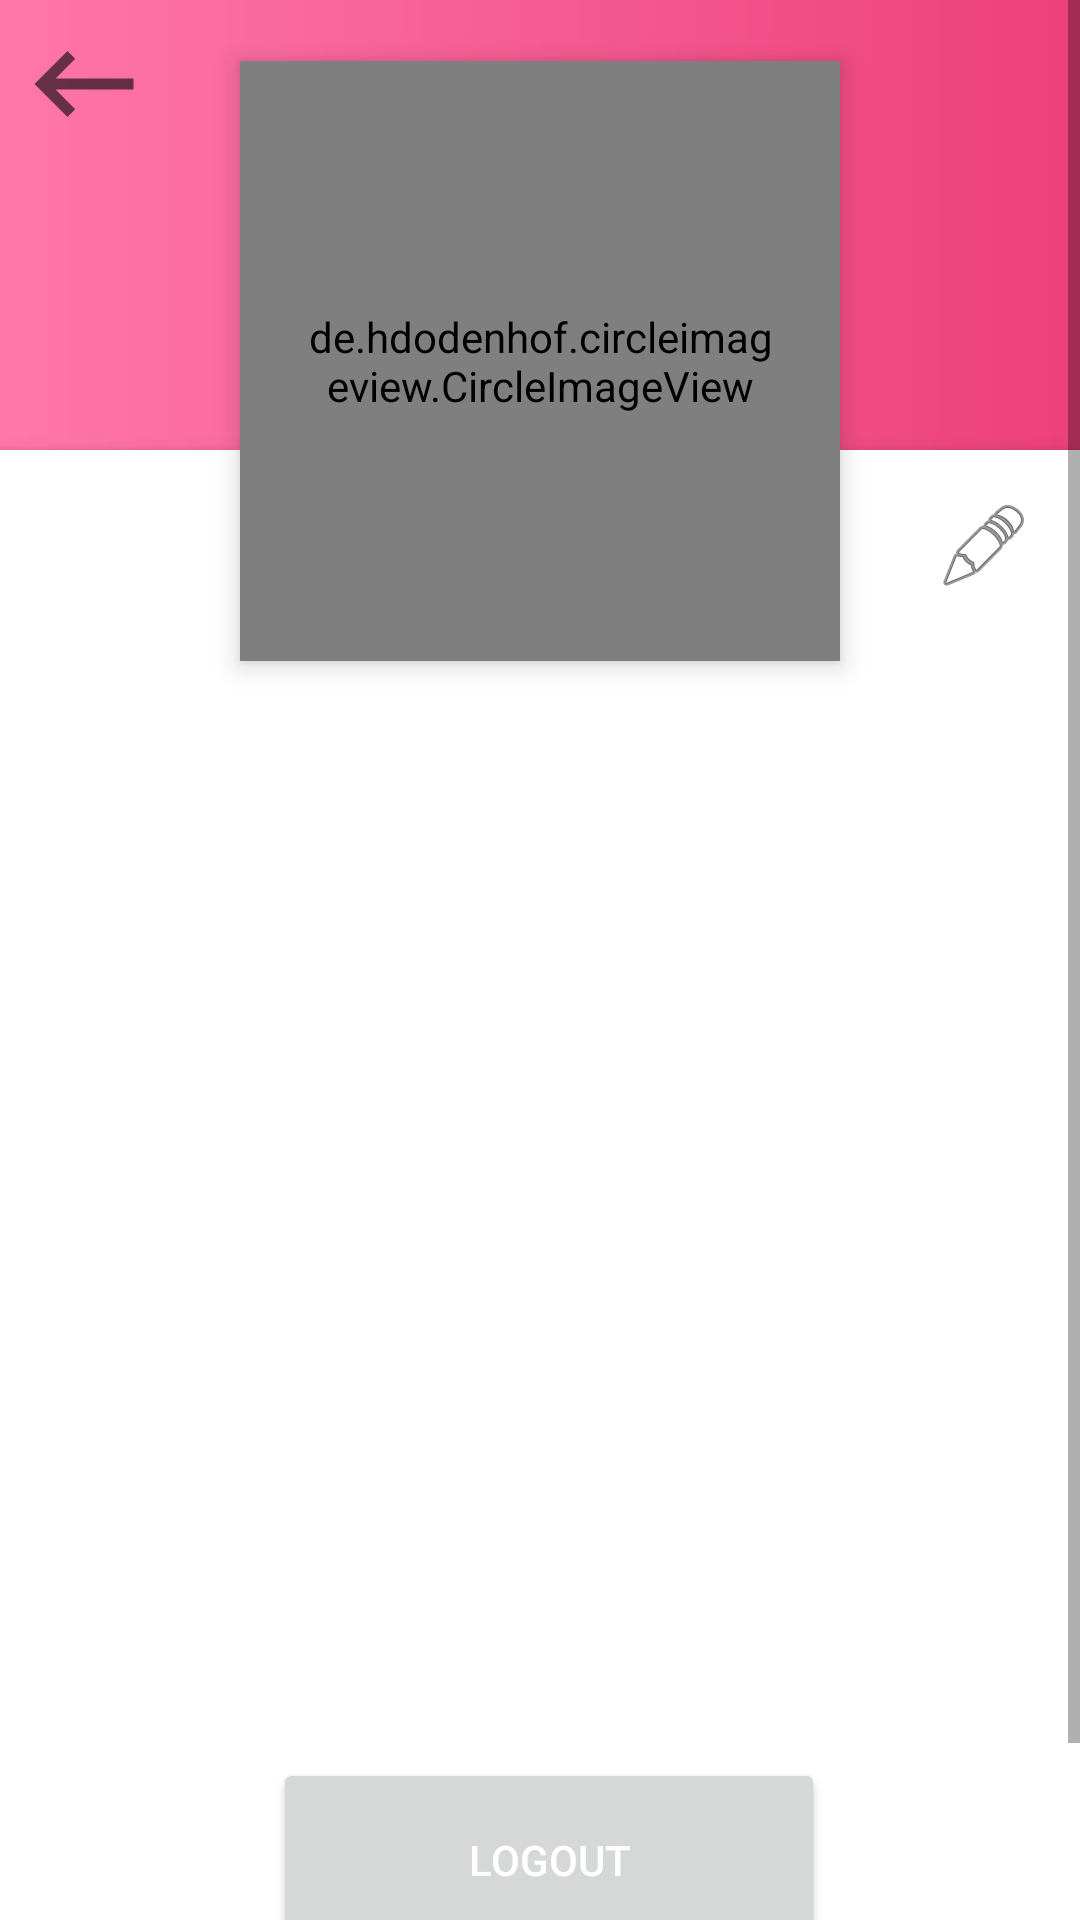

Icon click points for this 1080*1920 phone screenshot, format (x,y):
edit: (983,545)
